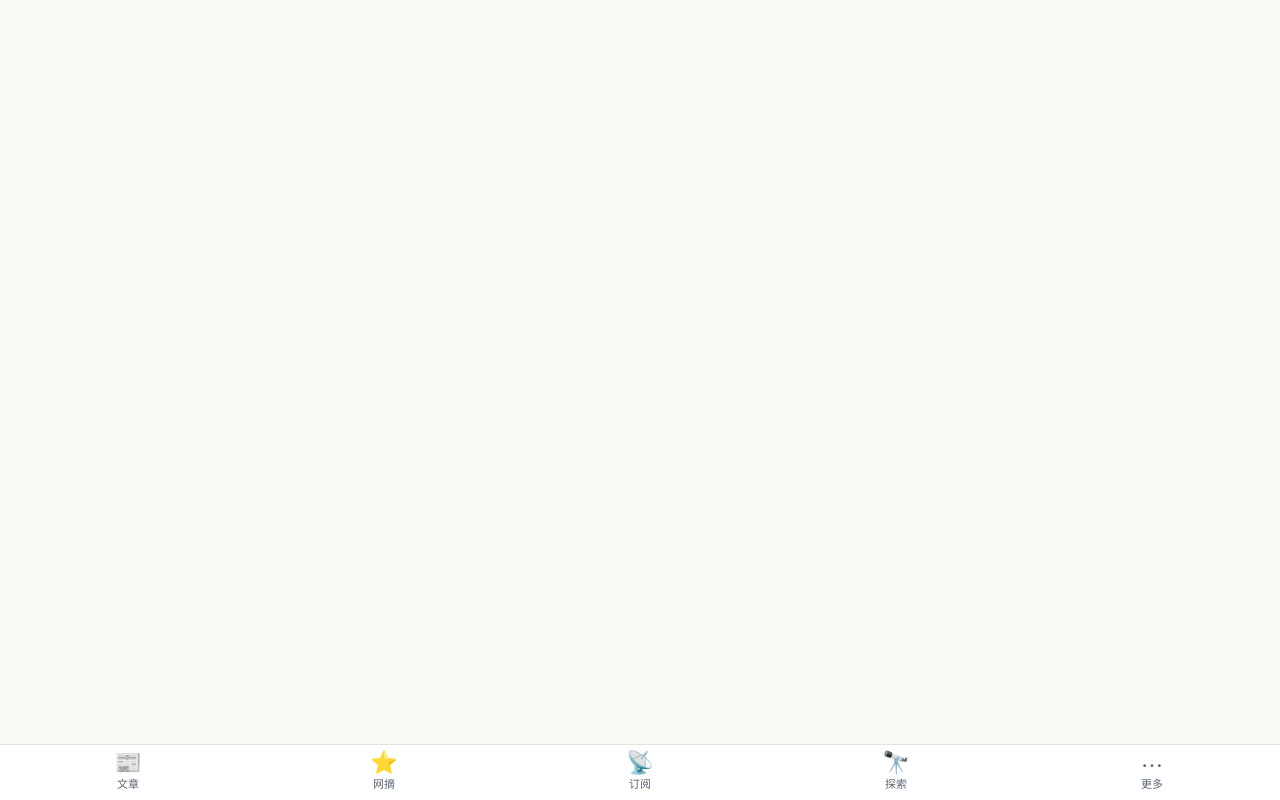
it: 管理员在手机更多菜单中可进入后台管理
The image size is (1280, 800).
Click the button "⋯ 更多".
click(1152, 772)  # box [1024,745,1279,799]
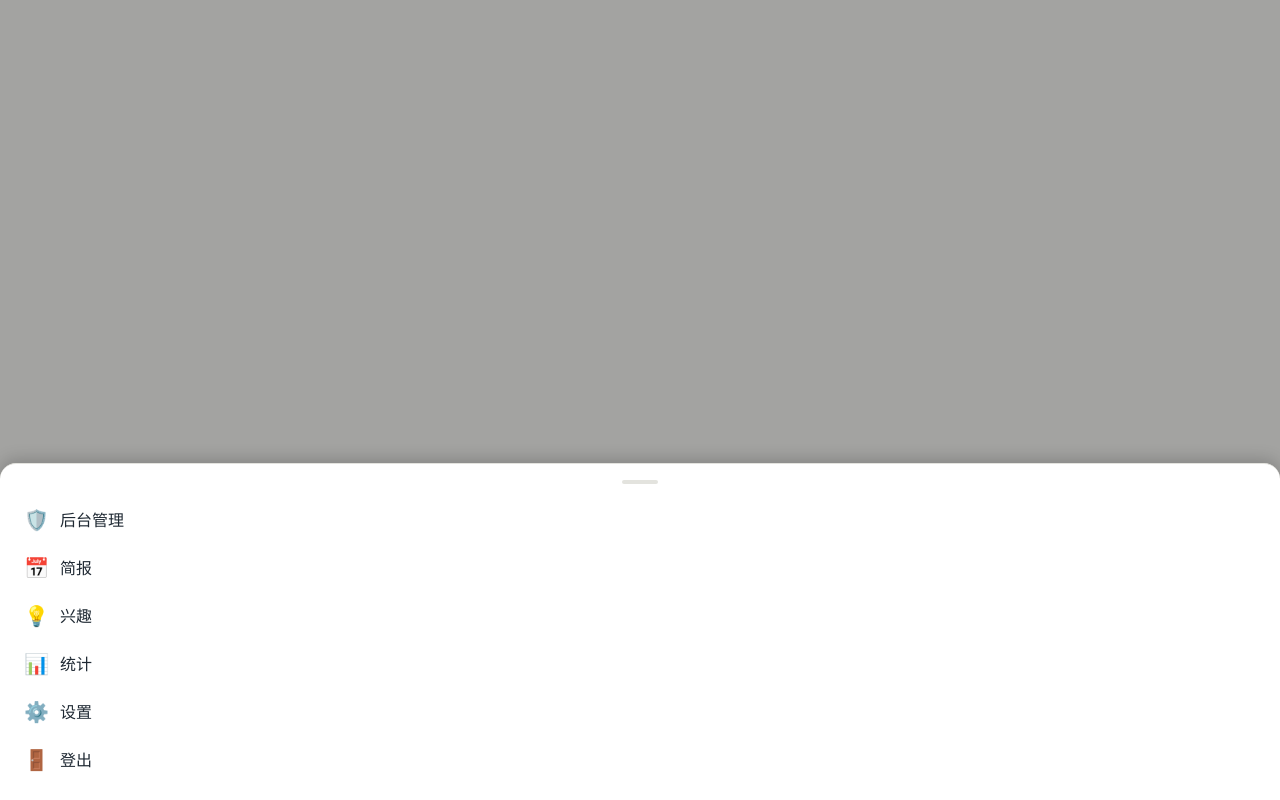
Expected: the button "🛡️ 后台管理" is shown, [8,496,1272,544]
